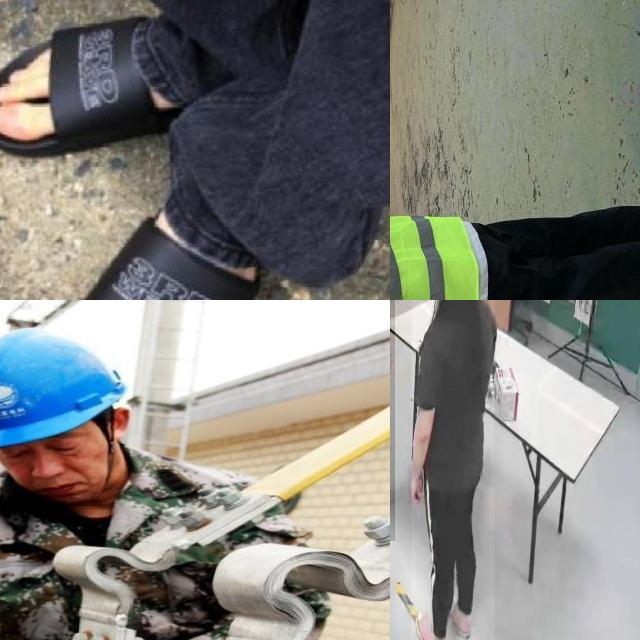No_Ear-Protection: (99, 402, 137, 441)
No_Glasses: (40, 430, 90, 469)
Sandals: (32, 165, 278, 300), (0, 9, 202, 160)
hand_noglove: (408, 464, 426, 504), (390, 346, 392, 376)
person: (411, 300, 494, 640)
shoes: (438, 588, 473, 640), (412, 601, 450, 640)
vest: (390, 201, 481, 300)
